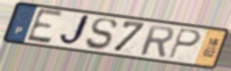7: (113, 19, 148, 54)
E: (25, 7, 66, 46)
J: (57, 13, 93, 48)
P: (167, 27, 202, 60)
R: (139, 23, 175, 59)
S: (84, 18, 119, 51)
